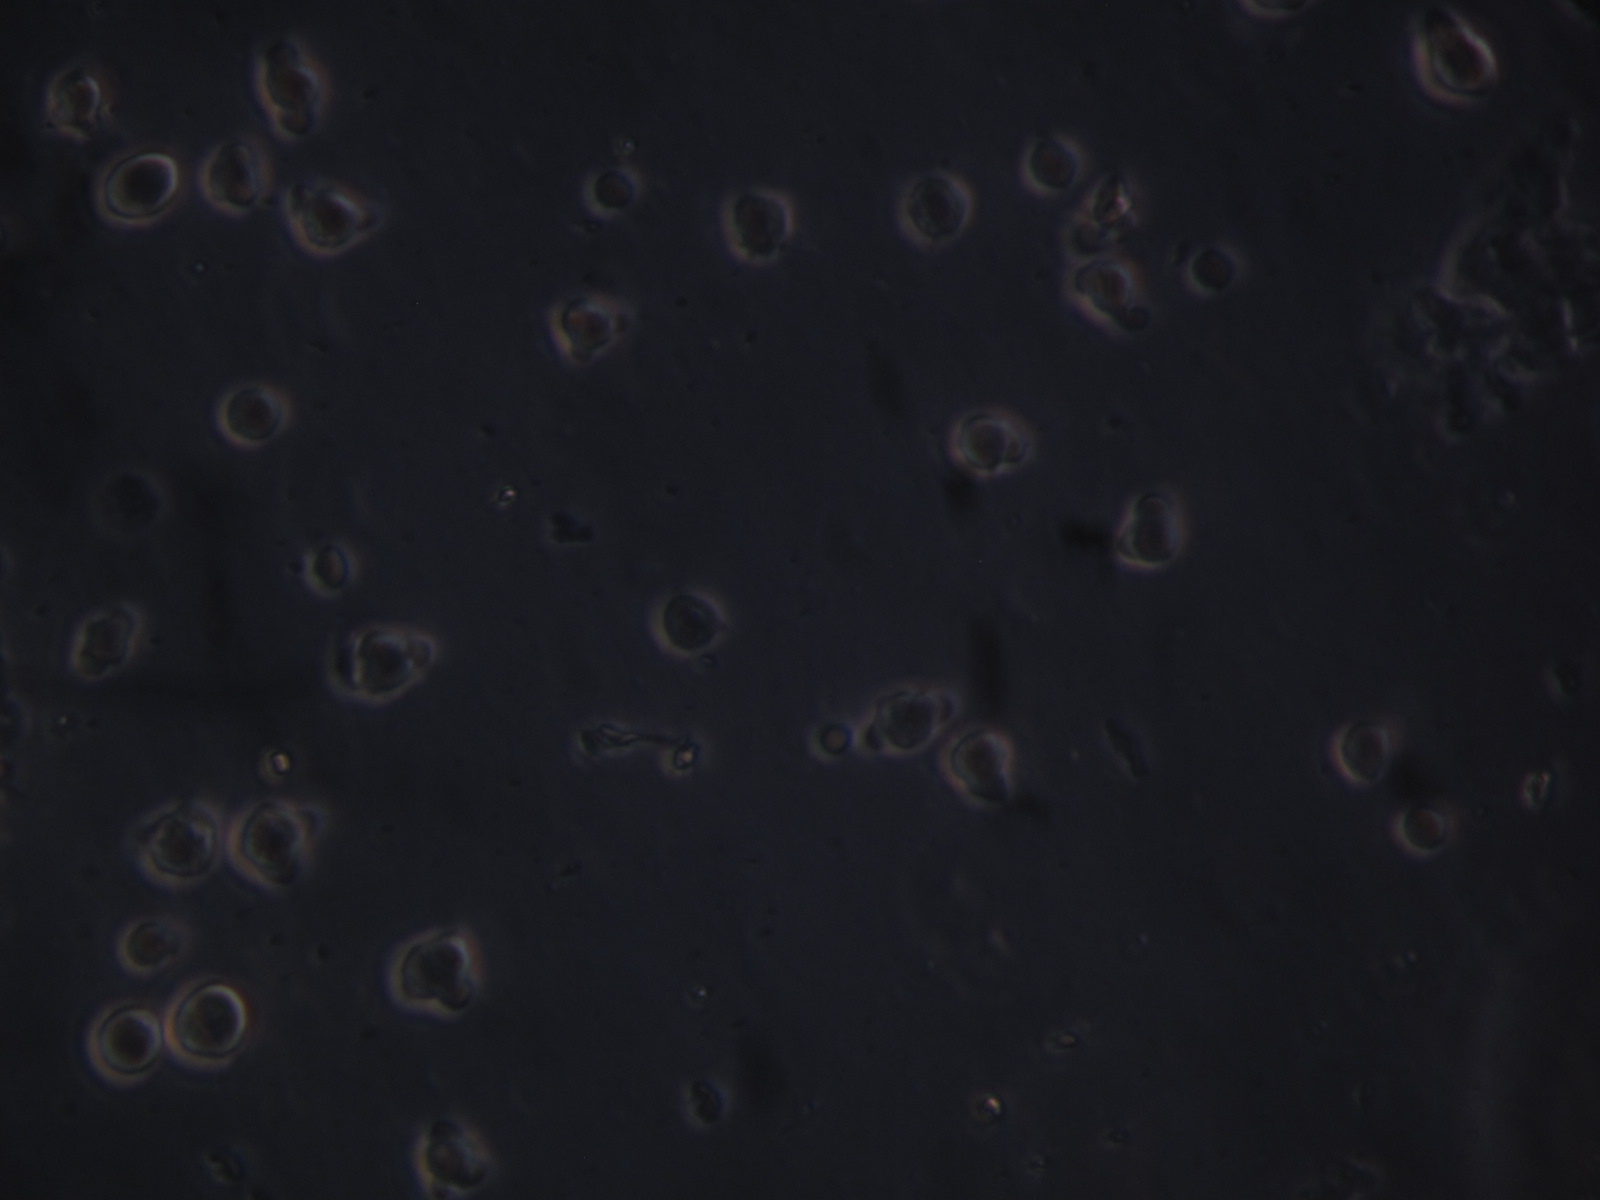hemo: (164, 976, 249, 1073), (392, 926, 483, 1013), (139, 802, 226, 887), (716, 179, 792, 267), (98, 147, 181, 227), (84, 1005, 164, 1088), (1414, 26, 1498, 105), (229, 800, 315, 875), (947, 406, 1034, 476), (69, 600, 142, 682), (897, 169, 975, 245), (648, 584, 724, 659), (199, 136, 272, 216), (414, 1128, 496, 1197), (357, 625, 425, 707), (292, 187, 367, 258), (217, 381, 294, 447), (47, 61, 107, 137), (1023, 129, 1089, 197), (873, 691, 941, 756), (120, 913, 190, 976), (1068, 260, 1139, 319), (1123, 500, 1183, 568), (553, 300, 620, 361), (1335, 720, 1392, 787), (1184, 241, 1243, 300), (307, 538, 362, 600), (944, 731, 1012, 779), (260, 59, 323, 108), (1398, 800, 1454, 856), (583, 163, 640, 216), (809, 717, 862, 770), (271, 101, 317, 139)
